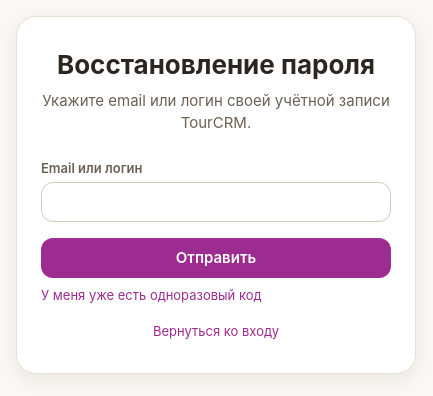
Test: PasswordResetRequestPage › shows the same generic confirmation regardless of whether the account exists
Type "someone@example.com" into the field labelled "Email или логин".
click(216, 202); type("someone@example.com")  # box [41,182,391,222]
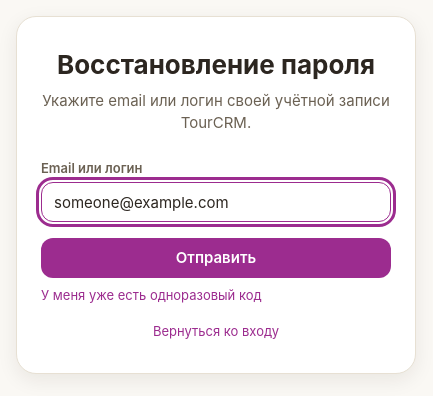
Click the button "Отправить".
click(216, 258)  # box [41,238,391,278]
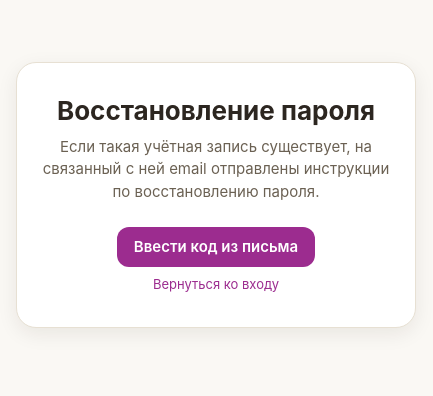
Now the text "Если такая учётная запись существует, на связанный с ней email отправлены инструкции по восстановлению пароля." is shown, box [43,137,389,201]
